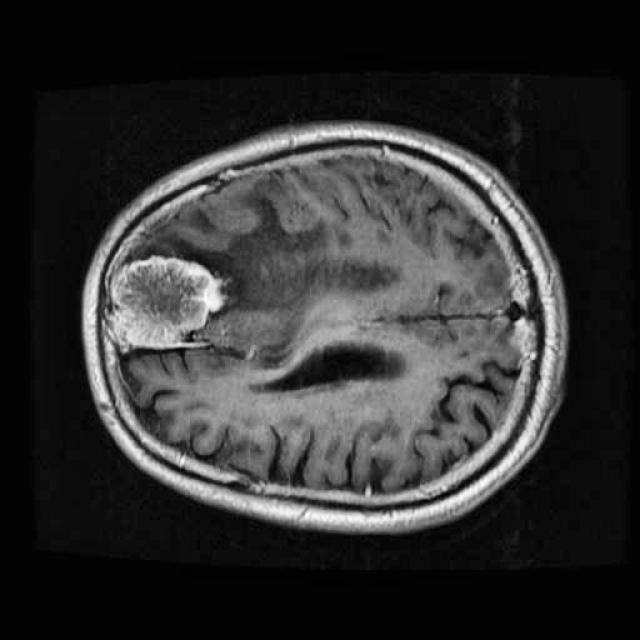Tumor: (89, 234, 239, 371)
